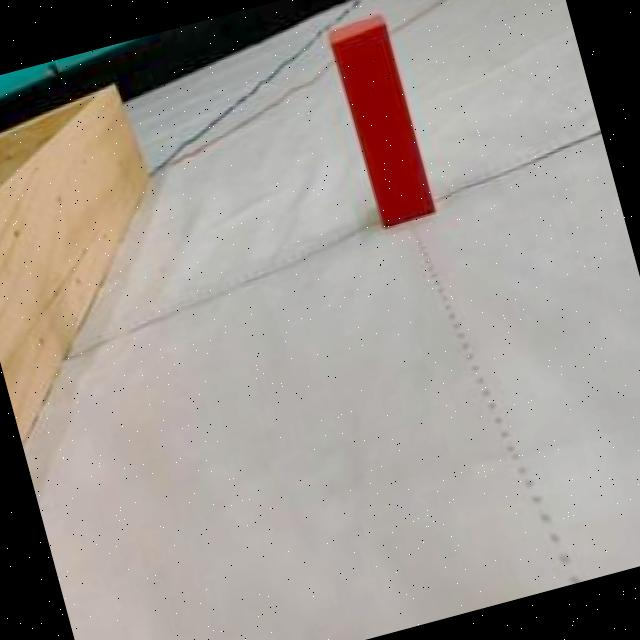redbox: (325, 12, 437, 228)
